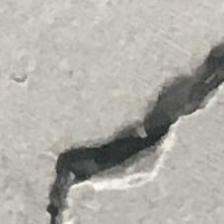Crack: (30, 45, 224, 223)
